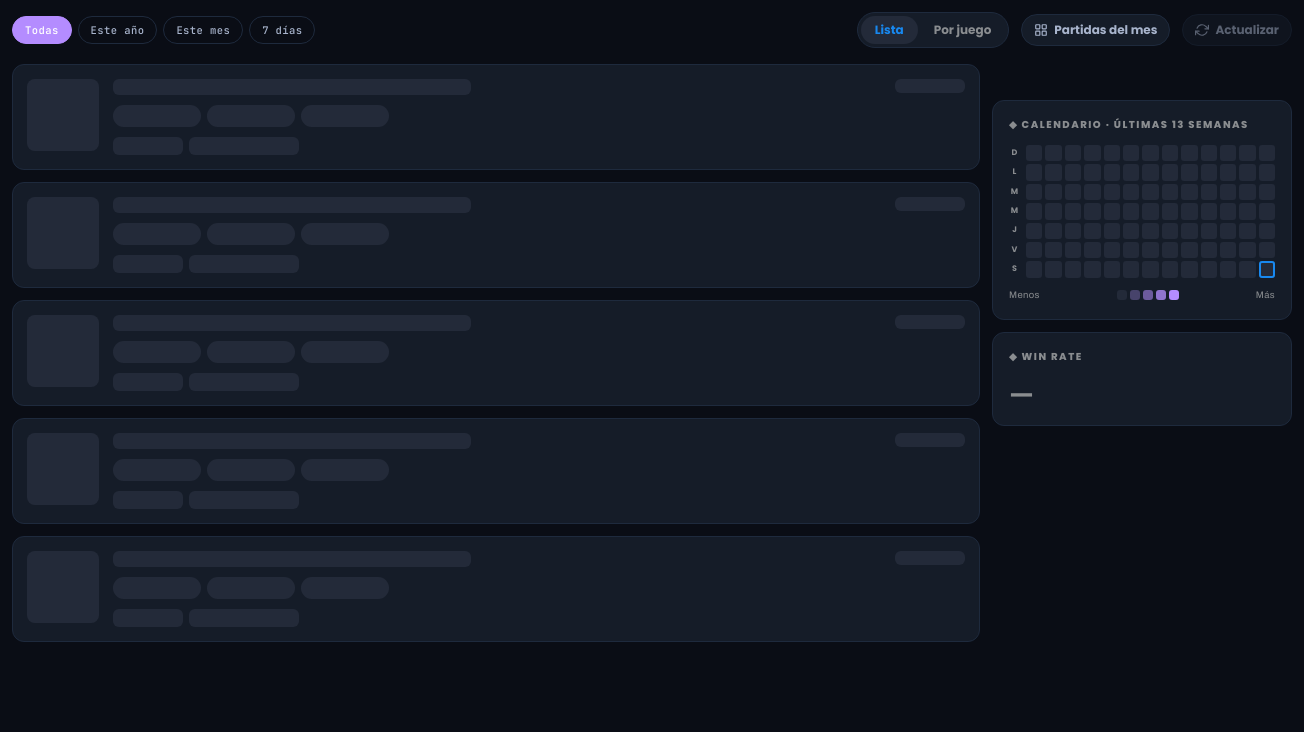
Test: <PartidasPanel> › shows the empty-by-game state when no played games
What coordinates should you click on to do the following:
click the button "Por juego"
I would click on:
 (962, 30)
Its box is [920,16,1005,44].
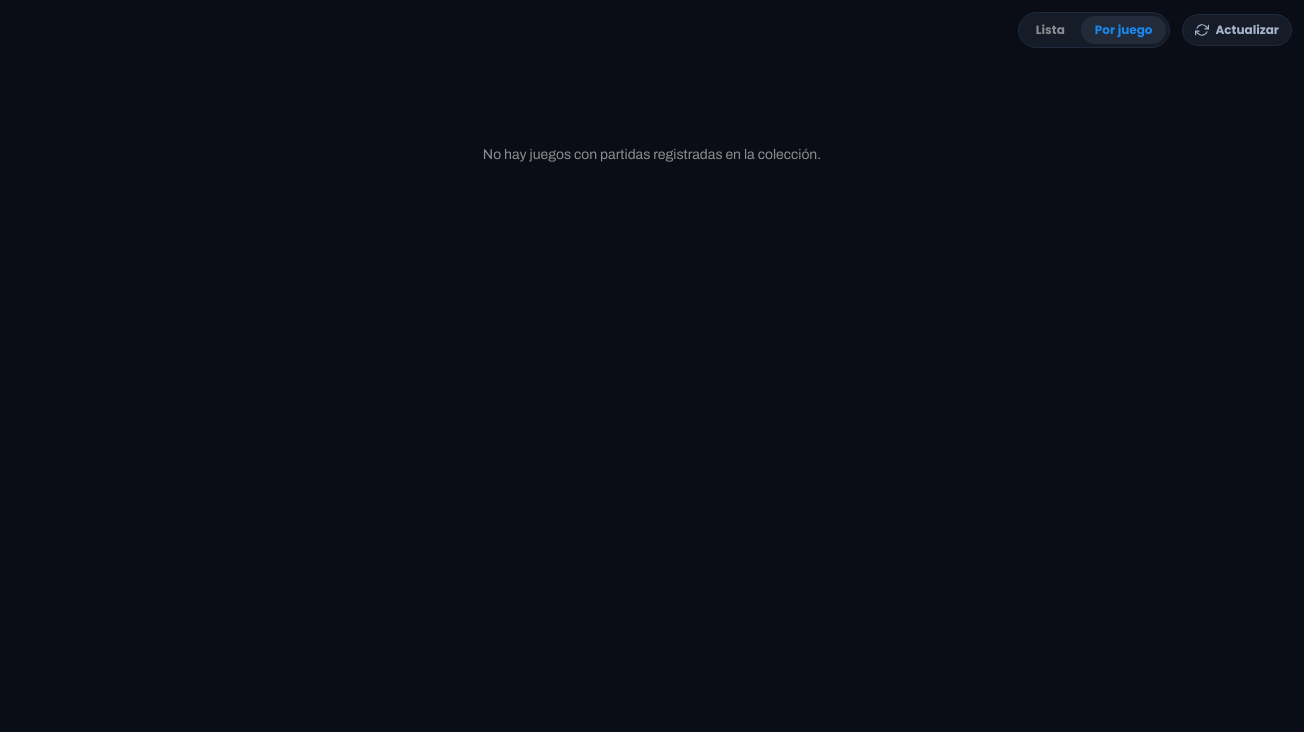
Expected: the text "No hay juegos con partidas registradas en la colección." is shown, [483,144,821,166]
